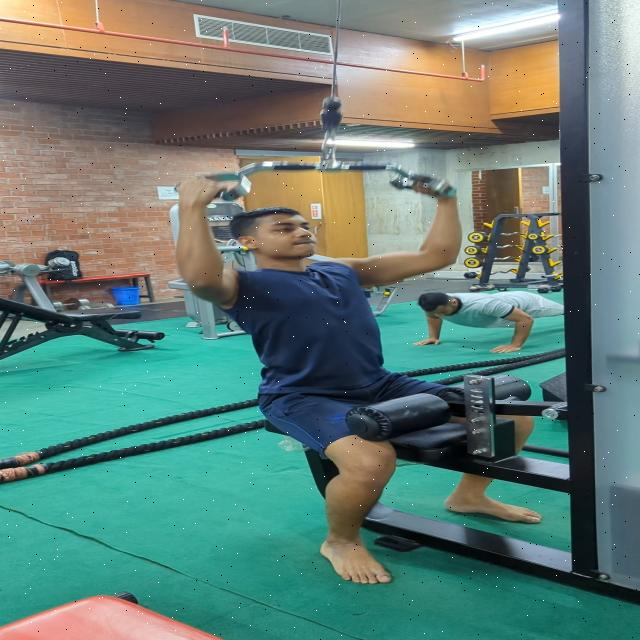Normal_LatPulldown: (166, 162, 554, 588)
